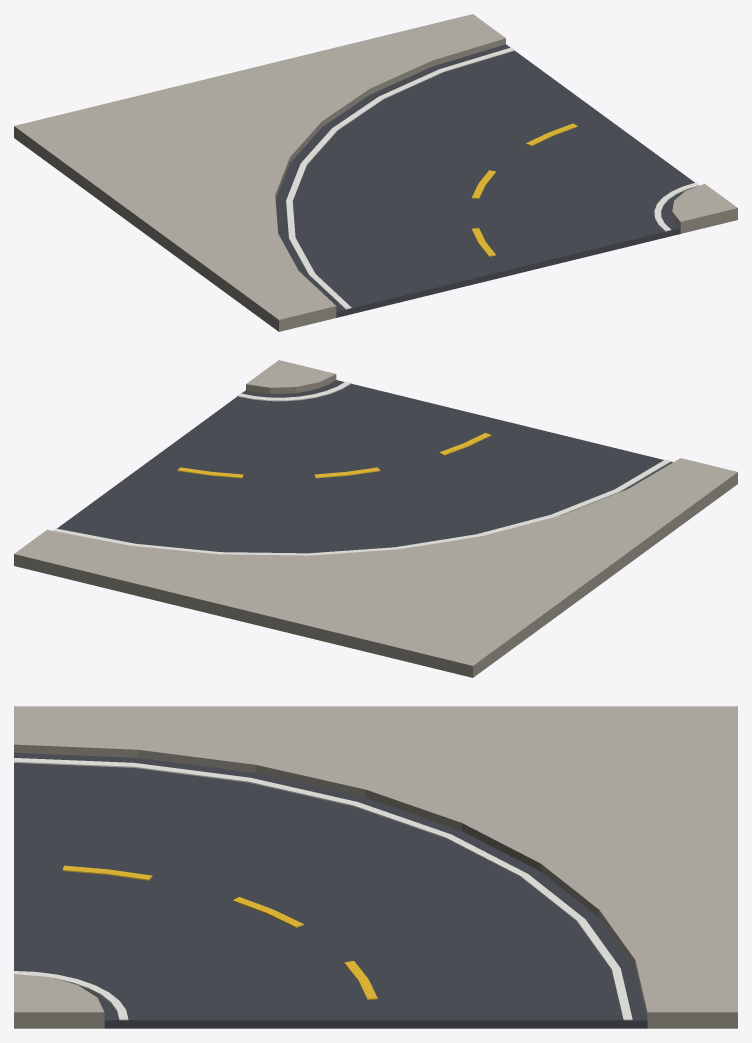
File: Road_Corner.glb
The picture shows the model from 3 angles, top to bottom: view 1: azimuth 30°, elevation 25°; view 2: azimuth 150°, elevation 25°; view 3: azimuth 270°, elevation 25°; orthographic projection. The views are drawn at different scales.
Visible parts, largest first — view 1: Road_Corner_Asphalt, Road_Corner_Sidewalk; view 2: Road_Corner_Asphalt, Road_Corner_Sidewalk; view 3: Road_Corner_Asphalt, Road_Corner_Sidewalk.
Boxes of the visible parts, left/top/right/bottom form: Road_Corner_Asphalt: left=275, top=44, right=699, bottom=317; Road_Corner_Sidewalk: left=14, top=14, right=737, bottom=331; Road_Corner_Asphalt: left=53, top=380, right=672, bottom=555; Road_Corner_Sidewalk: left=14, top=360, right=737, bottom=677; Road_Corner_Asphalt: left=14, top=752, right=647, bottom=1028; Road_Corner_Sidewalk: left=14, top=706, right=737, bottom=1028.
Bounding box in the file's own units: 11.2 × 0.28 × 11.2.
Materials: 1 (1 with a texture image).
